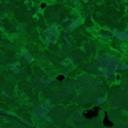alloviz: (82, 104, 102, 120), (101, 110, 115, 128), (55, 72, 65, 81), (38, 1, 47, 9)
